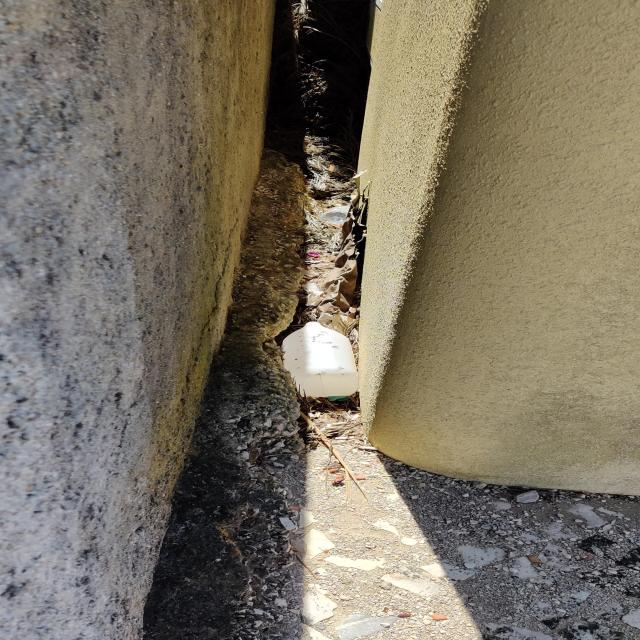litter: (283, 320, 359, 396)
